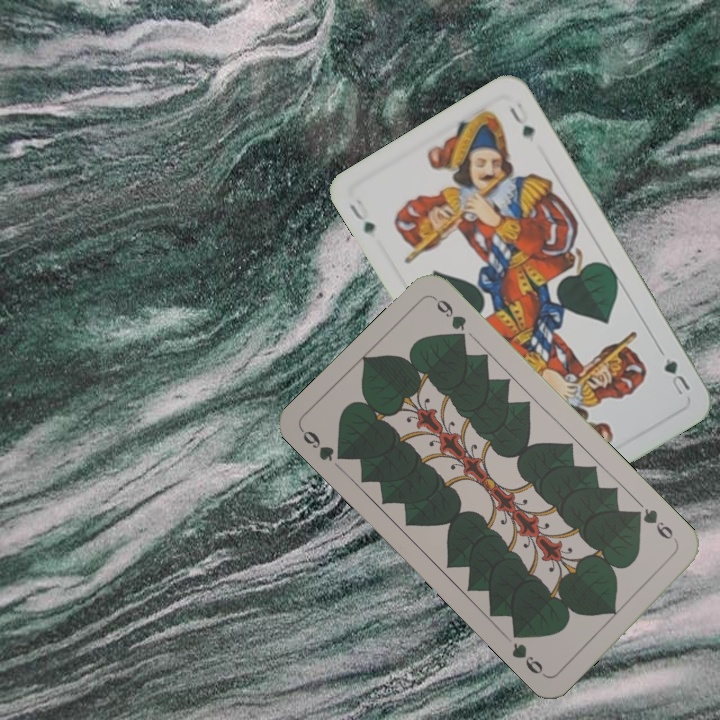G9: (629, 504, 681, 547), (297, 426, 351, 464)
GU: (659, 354, 693, 398), (345, 199, 378, 236)
